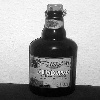beer: (28, 1, 83, 100)
